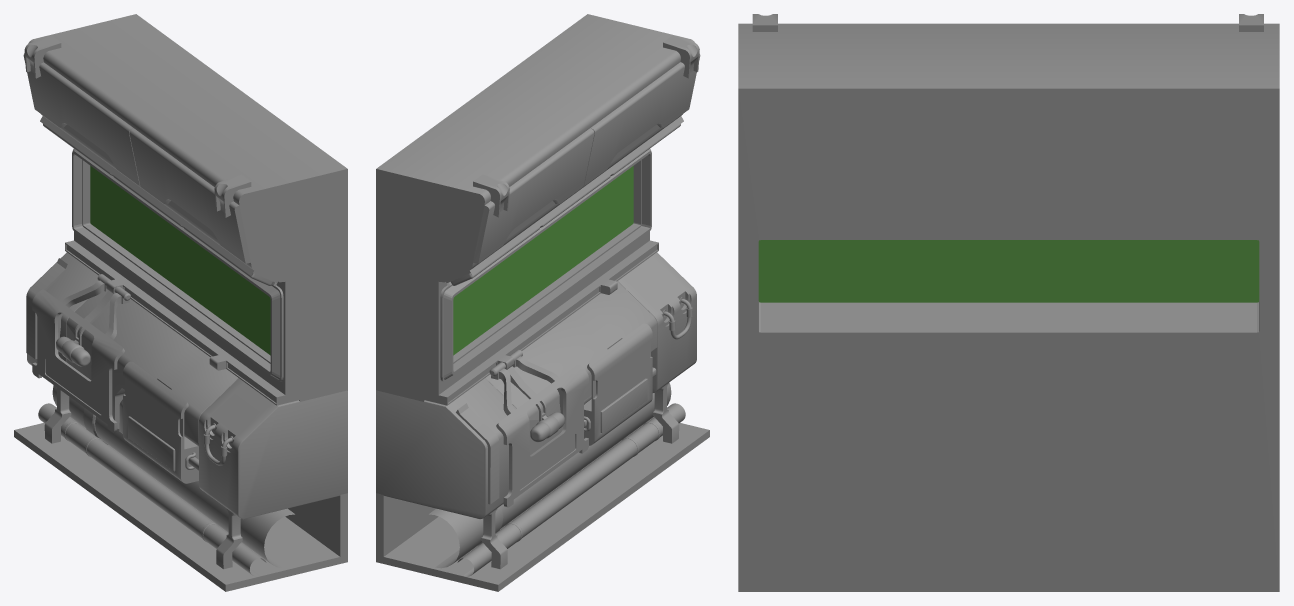
The model's file is window_1.FBX.
The picture shows the model from 3 angles, left to right: view 1: azimuth 30°, elevation 25°; view 2: azimuth 150°, elevation 25°; view 3: azimuth 270°, elevation 25°; orthographic projection. The views are drawn at different scales.
Visible parts, largest first — view 1: window_low; view 2: window_low; view 3: window_low.
Boxes of the visible parts, <box> form: window_low: <box>14,14,347,591</box>; window_low: <box>376,14,709,591</box>; window_low: <box>738,14,1279,591</box>.
Size of the model in its own units: 1.02 by 3.12 by 3.
